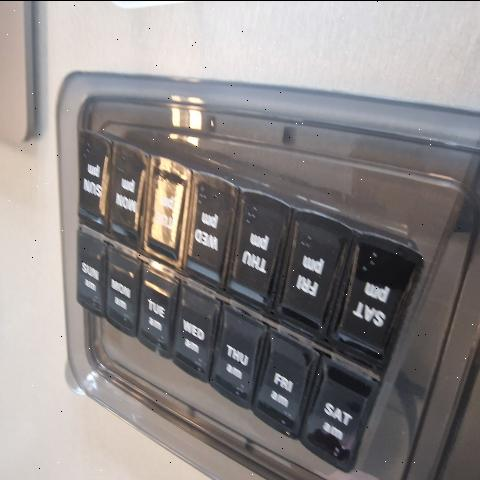PillBox: (59, 66, 433, 472)
